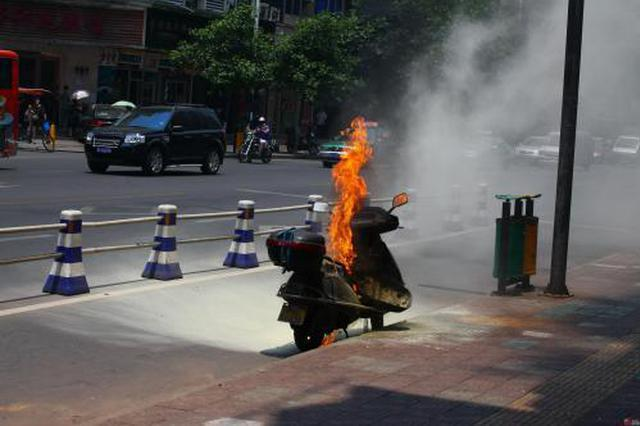fire: (326, 109, 366, 273), (323, 330, 342, 344)
